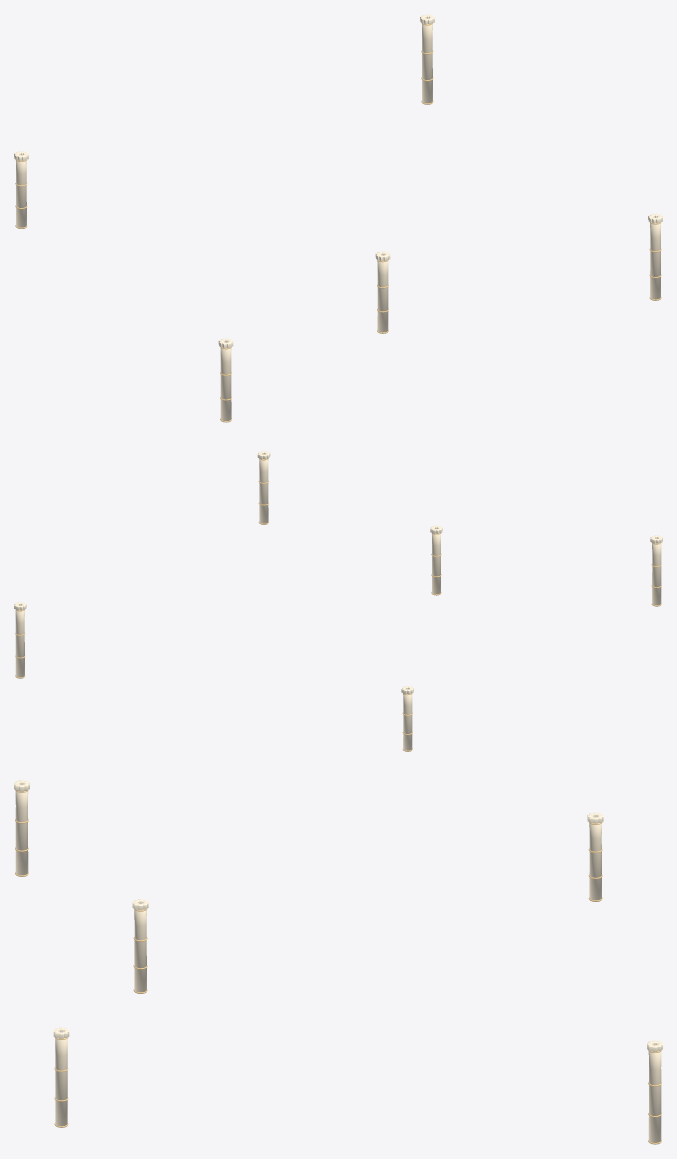
The model's file is castle_district_spires_purified.glb.
The picture shows the model from 3 angles, top to bottom: view 1: azimuth 30°, elevation 25°; view 2: azimuth 150°, elevation 25°; view 3: azimuth 270°, elevation 25°; orthographic projection. The views are drawn at different scales.
Visible parts, largest first — view 1: castle_district_spires_purified_surface; view 2: castle_district_spires_purified_surface; view 3: castle_district_spires_purified_surface.
Boxes of the visible parts, x1=… form: castle_district_spires_purified_surface: x1=14, y1=14, x2=662, y2=422; castle_district_spires_purified_surface: x1=14, y1=451, x2=662, y2=751; castle_district_spires_purified_surface: x1=14, y1=780, x2=662, y2=1144.
Size of the model in its own units: 164 by 27.3 by 164.
